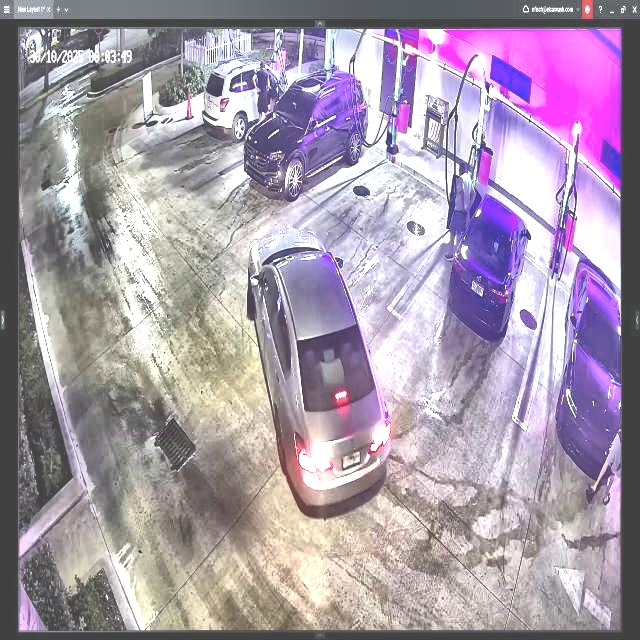Car: (250, 228, 393, 508), (244, 66, 368, 197), (449, 178, 531, 336)
